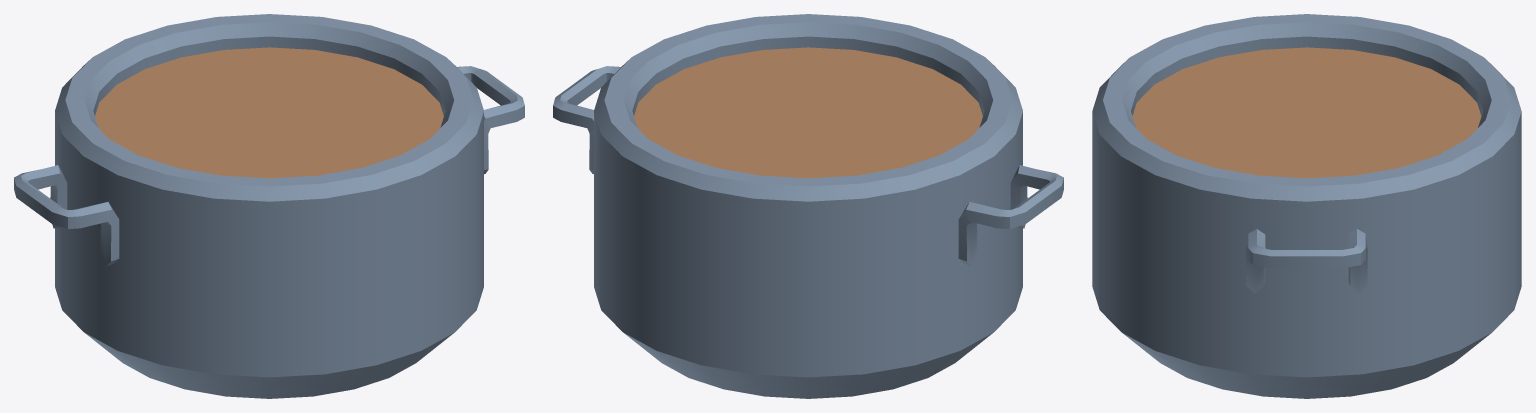
Rendered from cc0-pot-filled-lod0.glb.
3 renders of one model, left to right at view 1: azimuth 30°, elevation 25°; view 2: azimuth 150°, elevation 25°; view 3: azimuth 270°, elevation 25°, orthographic.
Visible parts, largest first — view 1: part_0; view 2: part_0; view 3: part_0.
Boxes of the visible parts, x1,y1,x2,y2 form: part_0: (14, 14, 524, 398); part_0: (553, 14, 1063, 398); part_0: (1092, 14, 1521, 398).
Size of the model in its own units: 1.58 by 0.731 by 1.25.
Materials: 1 (1 with a texture image).
